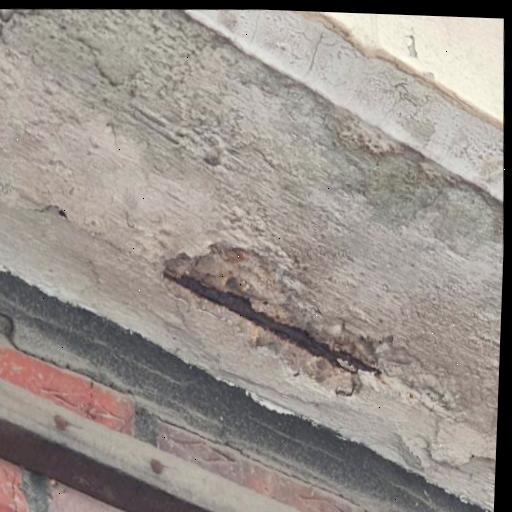exposed_rebar: (163, 269, 380, 376)
spalling: (161, 242, 412, 394)
